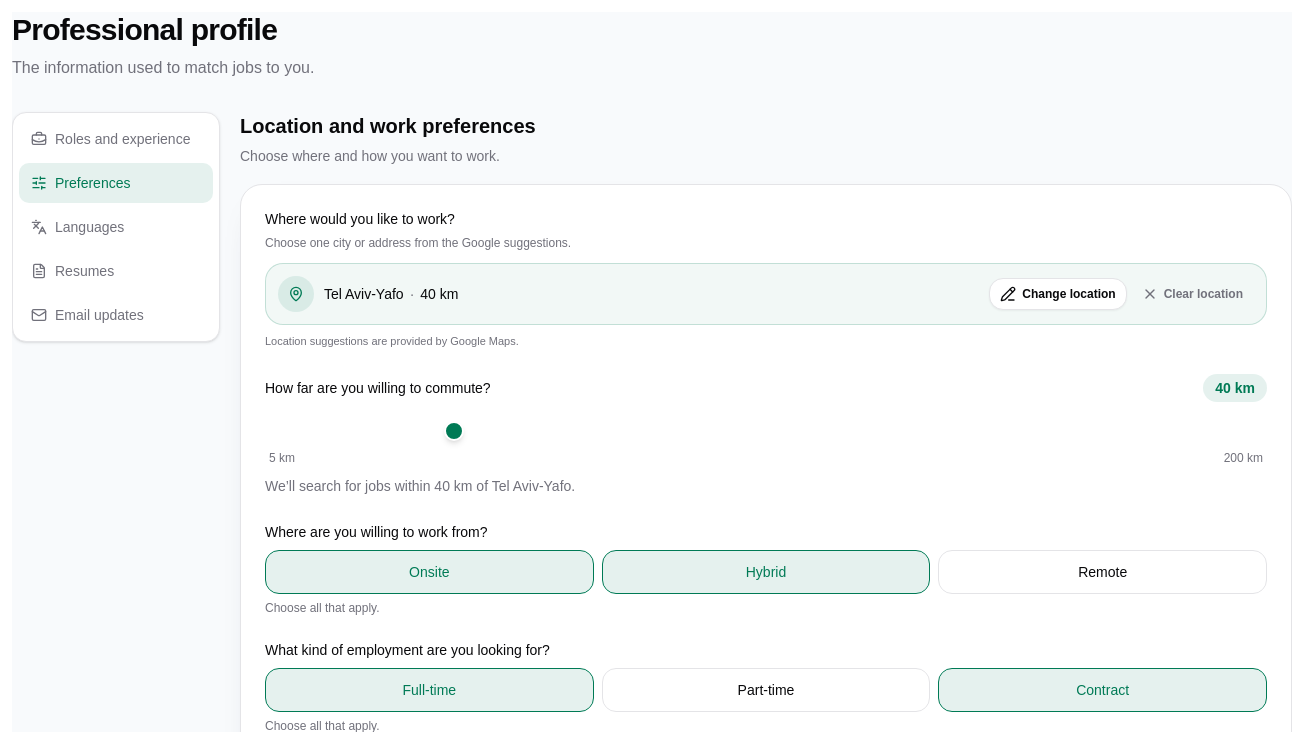
it: dashboard and completed profile editing › does not treat reordered preference selections as changes
Click the checkbox labelled "Onsite": click(429, 572) [265,550,594,594]
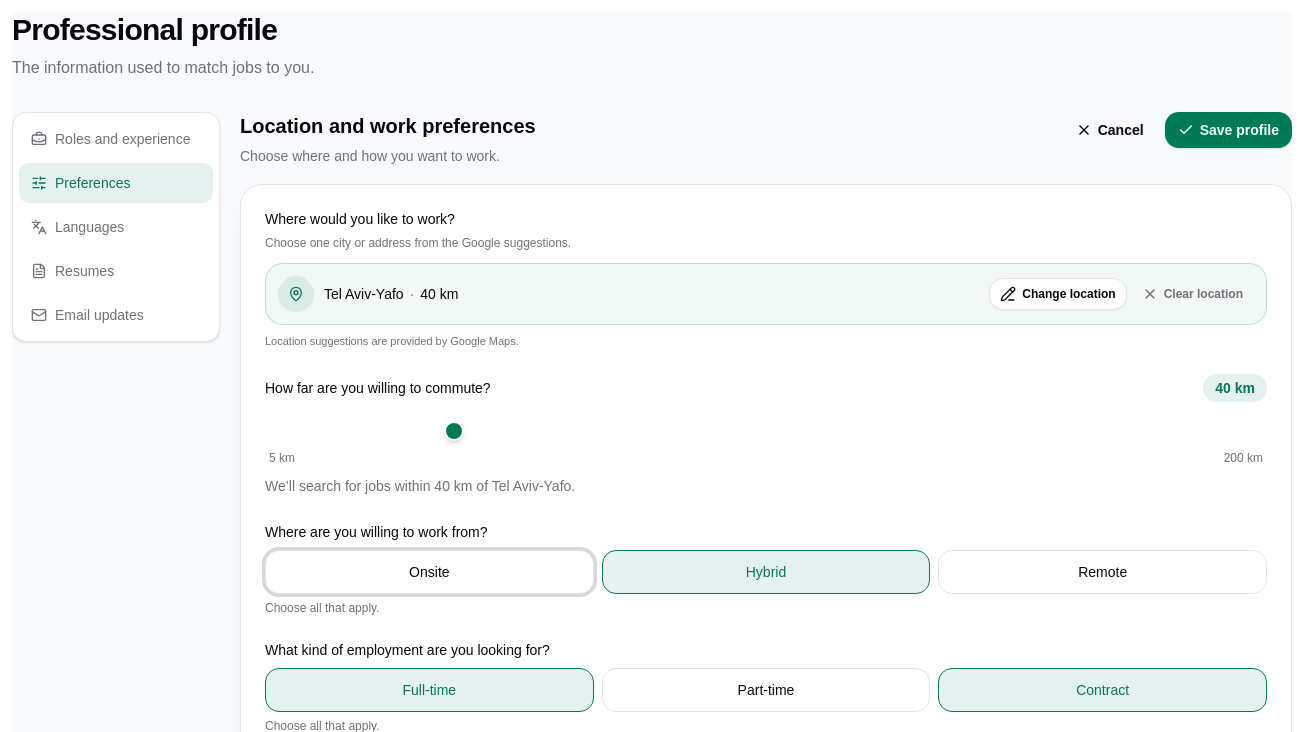
Check: the button "Save profile" is shown, box [1165,112,1292,148]
Click the checkbox labelled "Onsite": click(429, 572) [265,550,594,594]
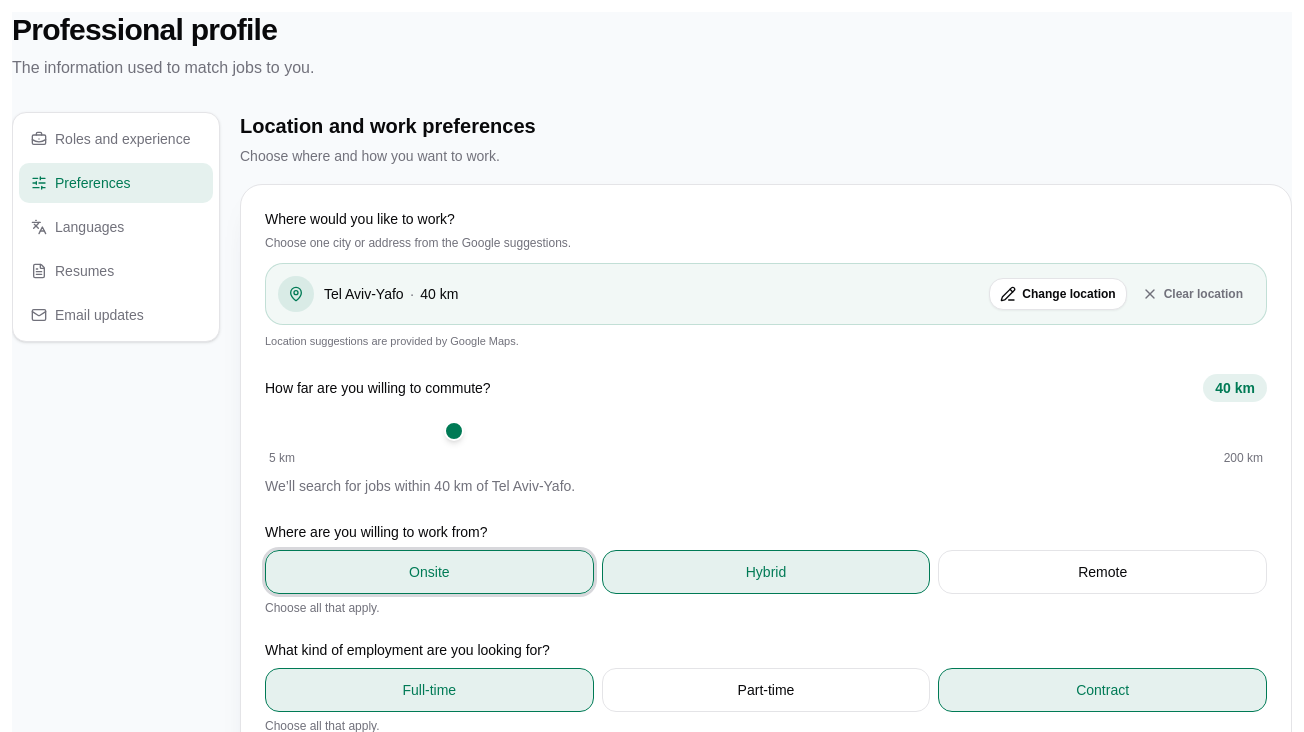
Check: the button "Save profile" is gone
Check: the button "Cancel" is gone
